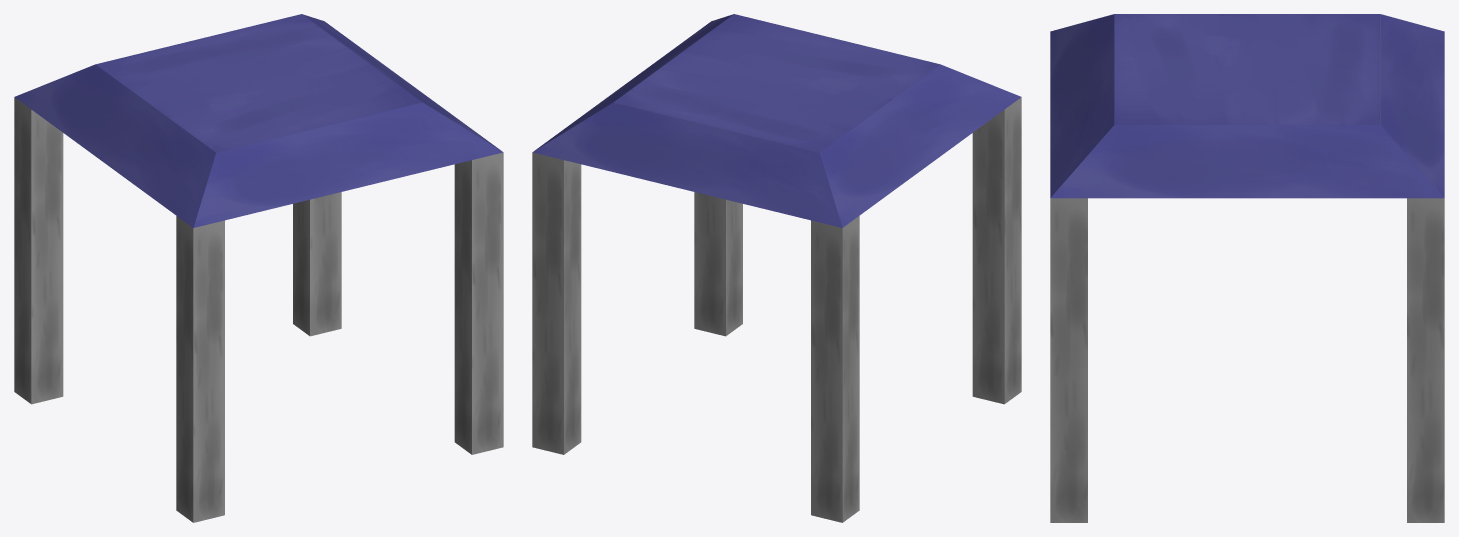
Rendered from toldo.fbx.
The picture shows the model from 3 angles, left to right: view 1: azimuth 30°, elevation 25°; view 2: azimuth 150°, elevation 25°; view 3: azimuth 270°, elevation 25°; orthographic projection. The views are drawn at different scales.
Visible parts, largest first — view 1: suporte; view 2: suporte; view 3: suporte.
Part boxes in pixels (left/top/right/bottom): suporte: left=14, top=14, right=503, bottom=522; suporte: left=532, top=14, right=1021, bottom=522; suporte: left=1050, top=14, right=1444, bottom=522.
Bounding box in the file's own units: 1723 × 1784 × 1723.
Materials: 1 (1 with a texture image).
